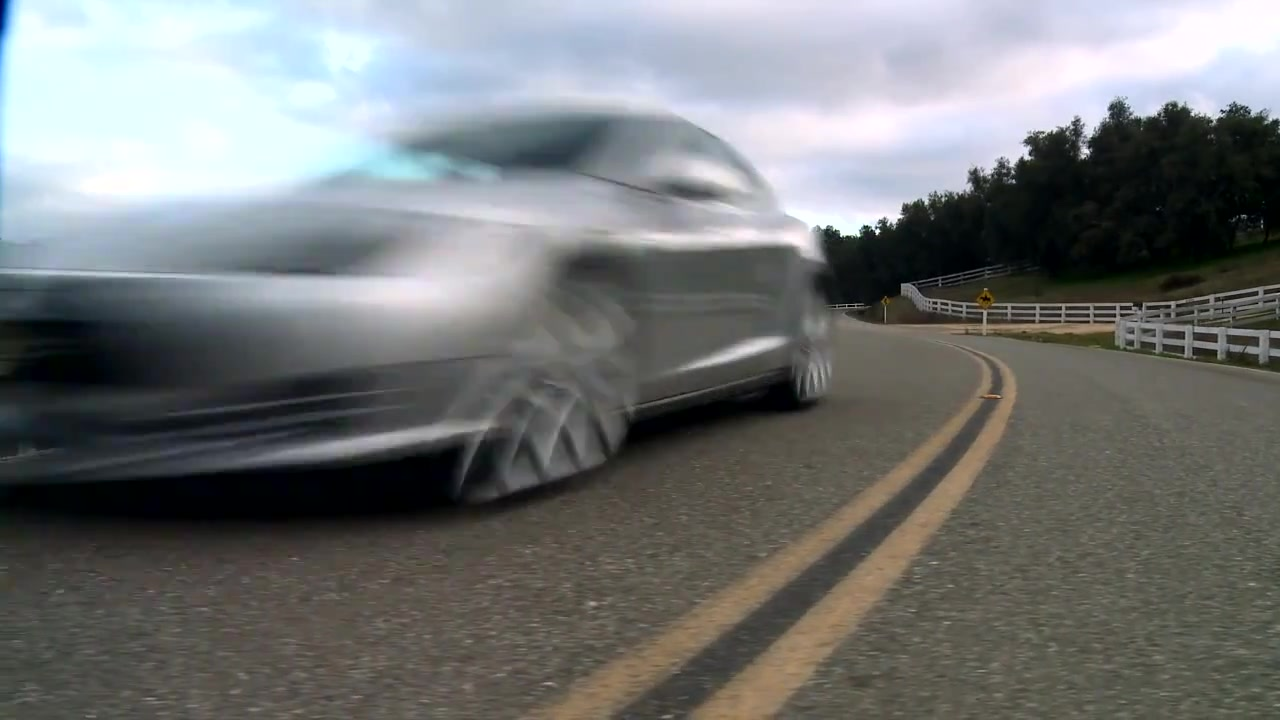car: (5, 87, 835, 518)
